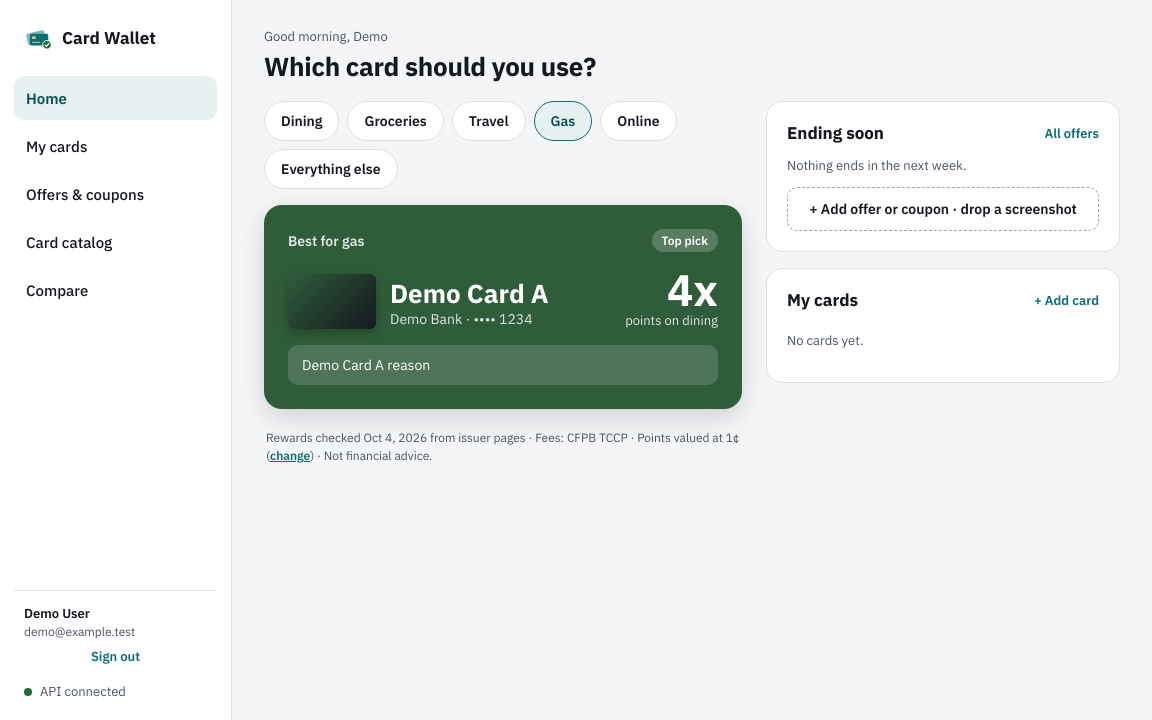
home › re-ranks when the category changes, and remembers it in the URL
Expected: the text "Best for gas" is shown, [288,232,364,250]
Click the button "Online". click: (638, 121)
box: [600,101,676,141]
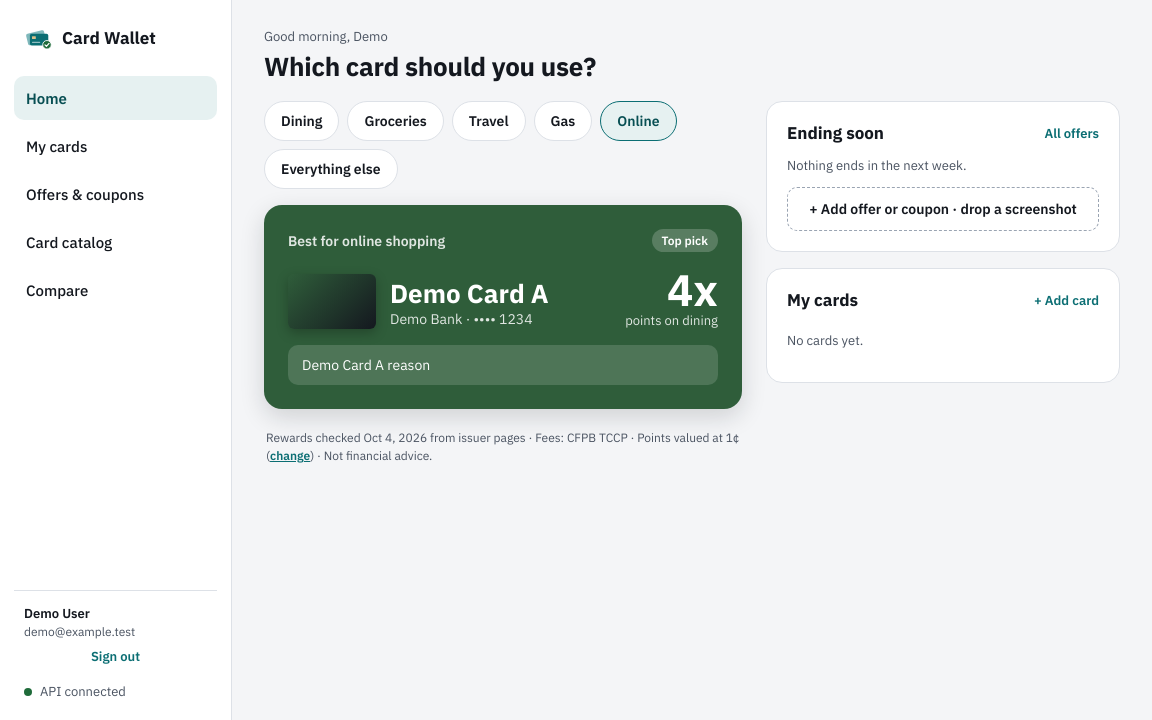
Result: the text "Best for online shopping" is shown at [288,232,445,250]
